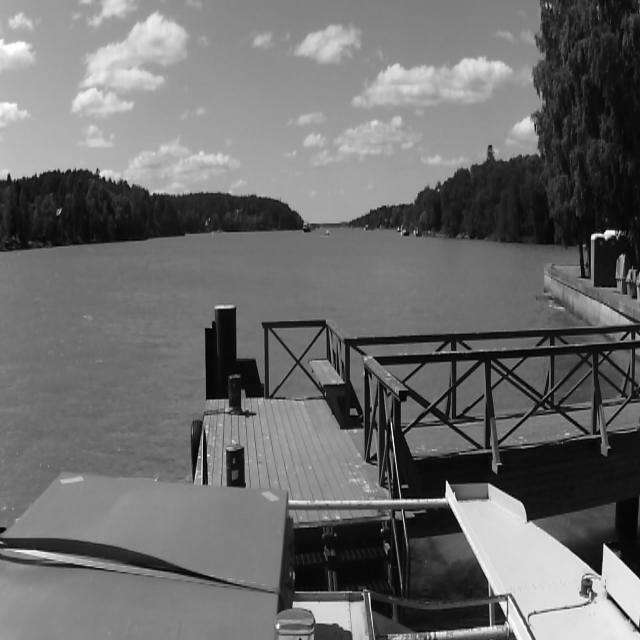ship: (322, 225, 332, 236), (304, 221, 312, 232)
